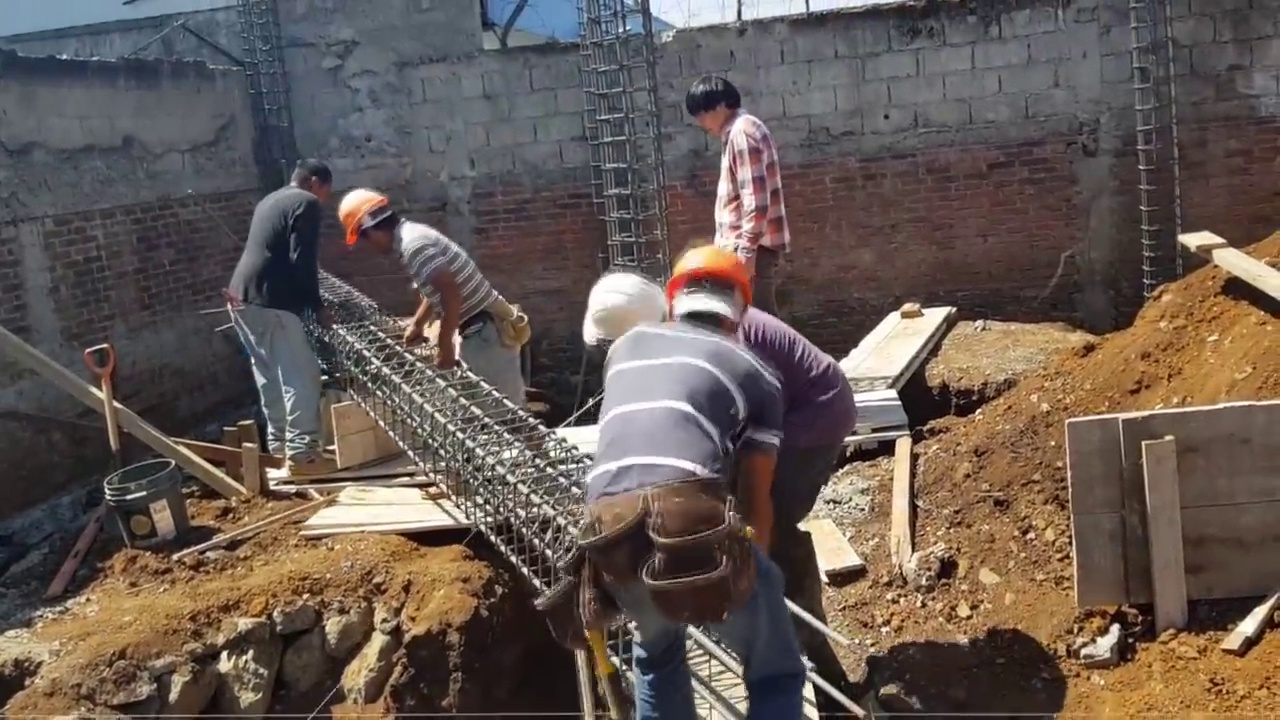helmet: (582, 273, 667, 346), (663, 248, 751, 309), (337, 186, 388, 248)
helmet-off: (682, 74, 741, 140), (289, 155, 333, 210)
helmet-on: (580, 268, 684, 353), (664, 245, 753, 342), (336, 185, 408, 256)
person: (585, 264, 860, 712), (590, 246, 801, 714), (334, 183, 531, 405), (225, 155, 333, 492), (680, 69, 792, 317)
